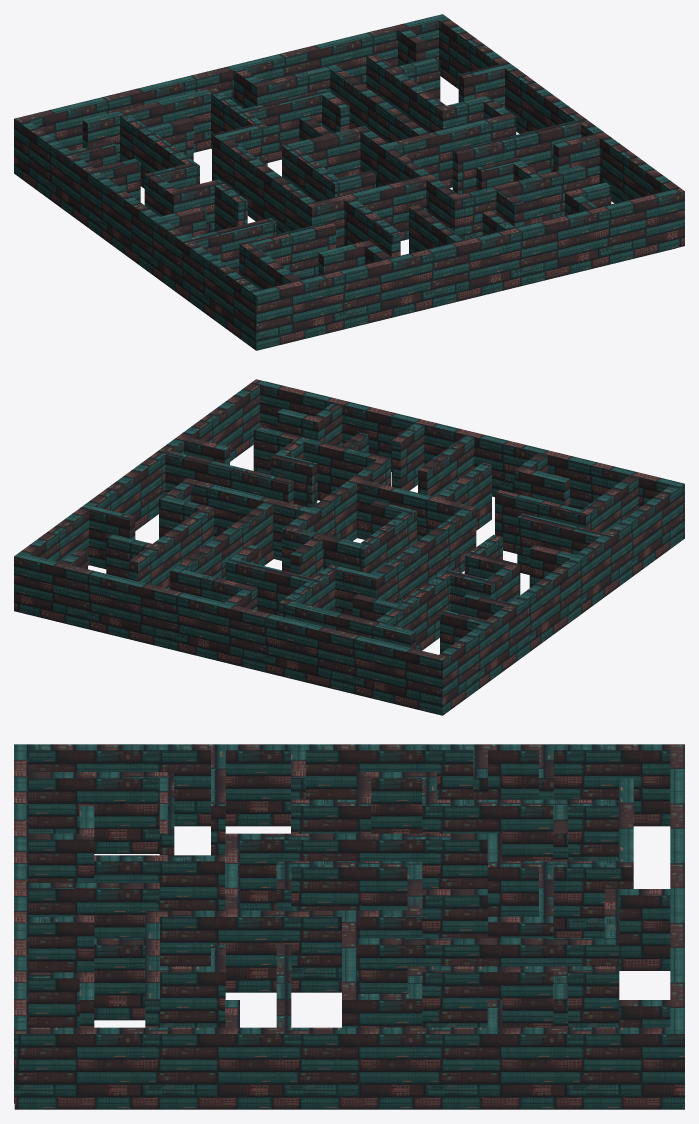
The model's file is maze2.gltf.
3 views of the same model, one above another, from view 1: azimuth 30°, elevation 25°; view 2: azimuth 150°, elevation 25°; view 3: azimuth 270°, elevation 25° (orthographic). The views are drawn at different scales.
Parts seen in each view (by area): view 1: Curve.001; view 2: Curve.001; view 3: Curve.001.
Boxes of the visible parts, x1,y1,x2,y2 form: Curve.001: [14, 14, 684, 350]; Curve.001: [14, 379, 684, 715]; Curve.001: [14, 744, 684, 1109].
Bounding box in the file's own units: 23.58 × 2.88 × 23.08.
1 material, 1 textured.
